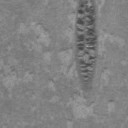oxide scale of plate system: (73, 0, 99, 94)
